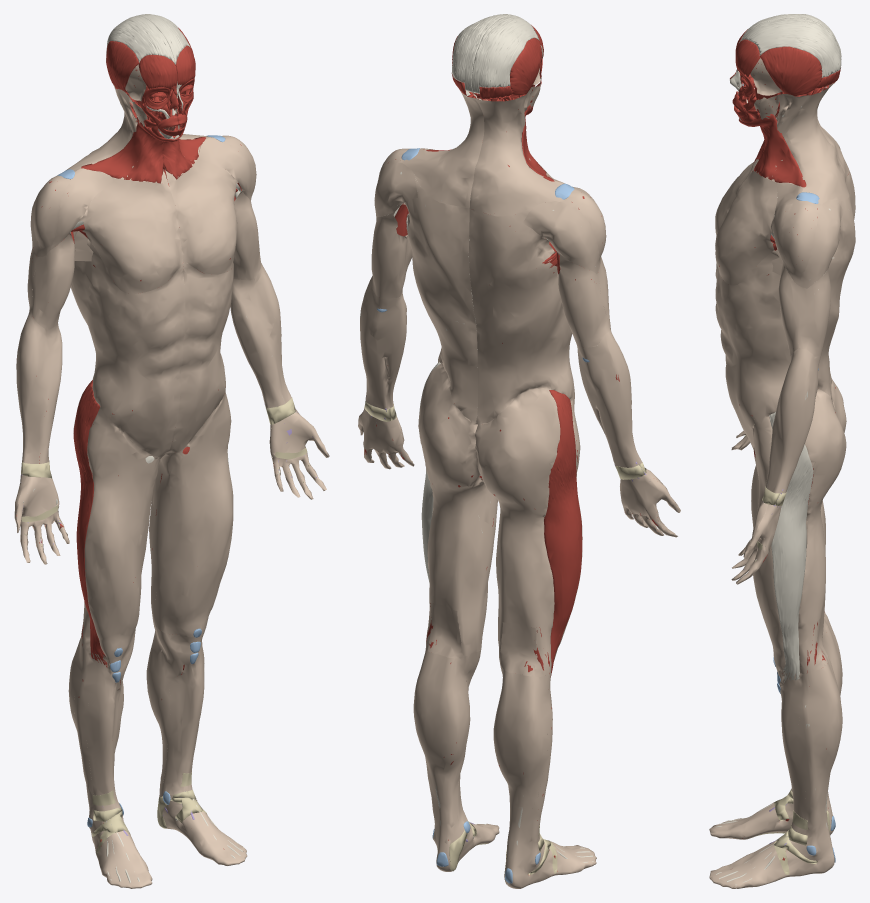
Rendered from muscular.glb.
The picture shows the model from 3 angles, left to right: view 1: azimuth 30°, elevation 25°; view 2: azimuth 150°, elevation 25°; view 3: azimuth 270°, elevation 25°; orthographic projection. The views are drawn at different scales.
Parts seen in each view (by area): view 1: Investing abdominal fascia.r.001, Fascia lata.l.001, Fascia lata.r.001, Crural fascia.l.001, Crural fascia.r.001, Pectoral fascia.r.001, Investing abdominal fascia.l.001, Pectoral fascia.l.001, Antebrachial fascia.r.001, Antebrachial fascia.l.001, Deltoid fascia.r.001, Brachial fascia.r.001 (+12 smaller); view 2: Investing abdominal fascia.r.001, Fascia lata.r.001, Fascia lata.l.001, Crural fascia.r.001, Investing abdominal fascia.l.001, Crural fascia.l.001, Superficial investing cervical fascia.r.001, Iliotibial tract.r.001, Antebrachial fascia.r.001, Antebrachial fascia.l.001, Deltoid fascia.r.001, Superficial investing cervical fascia.l.001 (+11 smaller); view 3: Investing abdominal fascia.l.001, Crural fascia.l.001, Fascia lata.l.001, Iliotibial tract.l.001, Deltoid fascia.l.001, Pectoral fascia.l.001, Superficial investing cervical fascia.l.001, Antebrachial fascia.l.001, Brachial fascia.l.001, Epicranial aponeurosis.l.001, Crural fascia.r.001, Temporoparietalis muscle.l.001 (+13 smaller).
Part boxes in pixels (bbox=[...]): Investing abdominal fascia.r.001: bbox=[70, 239, 185, 456]; Fascia lata.l.001: bbox=[149, 391, 233, 637]; Fascia lata.r.001: bbox=[73, 392, 166, 658]; Crural fascia.l.001: bbox=[146, 621, 247, 865]; Crural fascia.r.001: bbox=[68, 638, 152, 888]; Pectoral fascia.r.001: bbox=[78, 178, 183, 294]; Investing abdominal fascia.l.001: bbox=[167, 263, 233, 452]; Pectoral fascia.l.001: bbox=[168, 158, 238, 274]; Antebrachial fascia.r.001: bbox=[16, 315, 62, 463]; Antebrachial fascia.l.001: bbox=[230, 263, 291, 408]; Deltoid fascia.r.001: bbox=[30, 169, 113, 256]; Brachial fascia.r.001: bbox=[27, 232, 75, 329]; Investing abdominal fascia.r.001: bbox=[468, 206, 574, 425]; Fascia lata.r.001: bbox=[475, 389, 582, 677]; Fascia lata.l.001: bbox=[418, 363, 497, 656]; Crural fascia.r.001: bbox=[493, 665, 596, 888]; Investing abdominal fascia.l.001: bbox=[402, 177, 477, 424]; Crural fascia.l.001: bbox=[413, 648, 499, 871]; Superficial investing cervical fascia.r.001: bbox=[470, 86, 567, 216]; Iliotibial tract.r.001: bbox=[544, 390, 582, 677]; Antebrachial fascia.r.001: bbox=[576, 329, 642, 467]; Antebrachial fascia.l.001: bbox=[360, 276, 406, 409]; Deltoid fascia.r.001: bbox=[522, 173, 606, 273]; Superficial investing cervical fascia.l.001: bbox=[400, 90, 484, 208]; Investing abdominal fascia.l.001: bbox=[715, 193, 855, 447]; Crural fascia.l.001: bbox=[709, 656, 842, 888]; Fascia lata.l.001: bbox=[752, 388, 846, 673]; Iliotibial tract.l.001: bbox=[769, 412, 813, 682]; Deltoid fascia.l.001: bbox=[772, 182, 844, 288]; Pectoral fascia.l.001: bbox=[715, 171, 777, 285]; Superficial investing cervical fascia.l.001: bbox=[753, 82, 849, 205]; Antebrachial fascia.l.001: bbox=[765, 348, 821, 493]; Brachial fascia.l.001: bbox=[778, 260, 830, 357]; Epicranial aponeurosis.l.001: bbox=[739, 18, 841, 77]; Crural fascia.r.001: bbox=[709, 617, 842, 839]; Temporoparietalis muscle.l.001: bbox=[760, 46, 822, 96].
Size of the model in its own units: 0.6715 by 1.7 by 0.2687.
